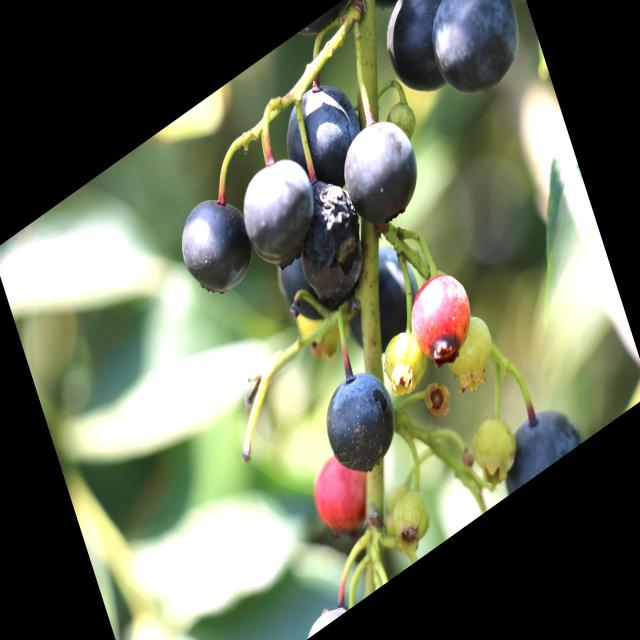blueberry: (327, 229, 429, 373), (311, 352, 409, 496), (234, 137, 329, 281), (276, 64, 372, 205), (167, 179, 262, 320), (282, 170, 374, 312), (336, 102, 430, 240), (370, 0, 477, 119), (419, 0, 527, 117), (495, 387, 585, 493), (481, 0, 524, 6)
blueberry-halfripe: (400, 253, 481, 376), (304, 438, 379, 550)
blueberry-unripe: (441, 305, 502, 397), (466, 402, 526, 492), (375, 317, 434, 408), (383, 475, 439, 553)
